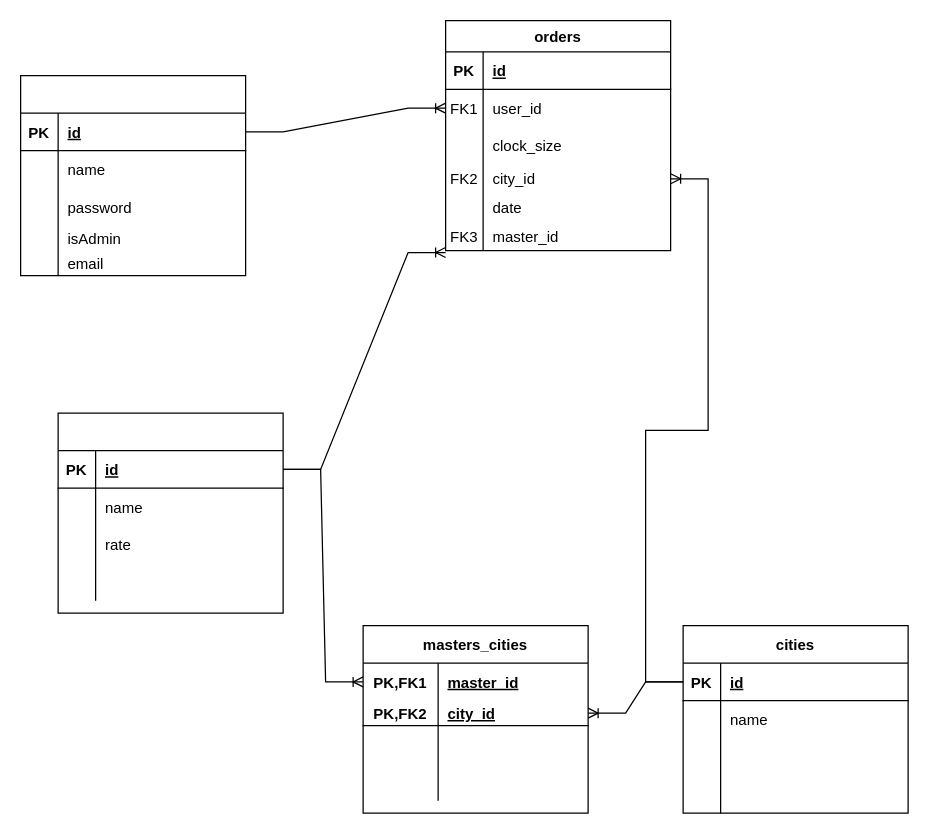
The diagram is 929 pixels wide and 834 high, and some of its shapes have lost their labels. Each missing label, with the box of its shape:
masters: (57, 412, 283, 613)
users: (19, 74, 246, 276)
